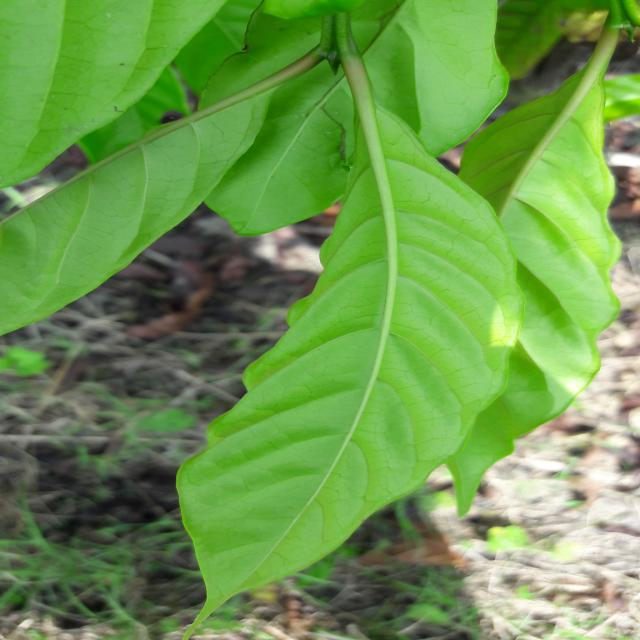Sanas: (174, 57, 562, 625)
